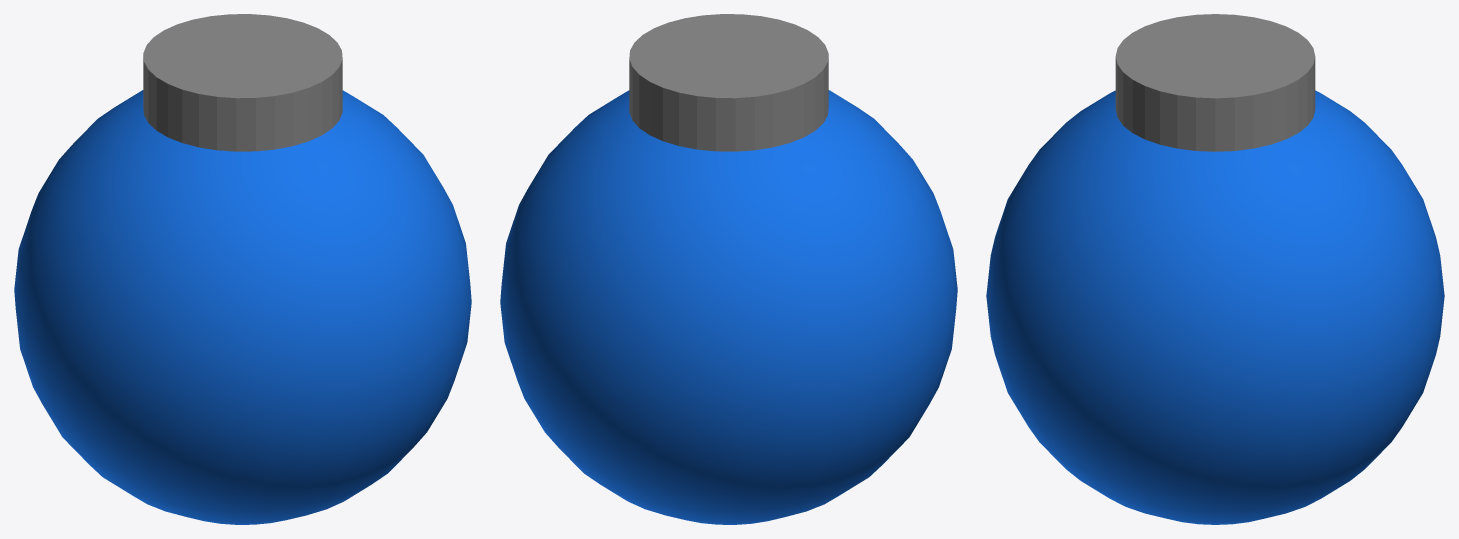
Rendered from potion.fbx.
The picture shows the model from 3 angles, left to right: view 1: azimuth 30°, elevation 25°; view 2: azimuth 150°, elevation 25°; view 3: azimuth 270°, elevation 25°; orthographic projection.
Visible parts, largest first — view 1: Sphere, Cylinder; view 2: Sphere, Cylinder; view 3: Sphere, Cylinder.
Boxes of the visible parts, x1=… form: Sphere: x1=14, y1=90, x2=471, y2=524; Cylinder: x1=143, y1=14, x2=342, y2=151; Sphere: x1=500, y1=90, x2=957, y2=524; Cylinder: x1=629, y1=14, x2=828, y2=151; Sphere: x1=986, y1=90, x2=1444, y2=524; Cylinder: x1=1115, y1=14, x2=1315, y2=151.
Bounding box in the file's own units: 200 × 215 × 200.
